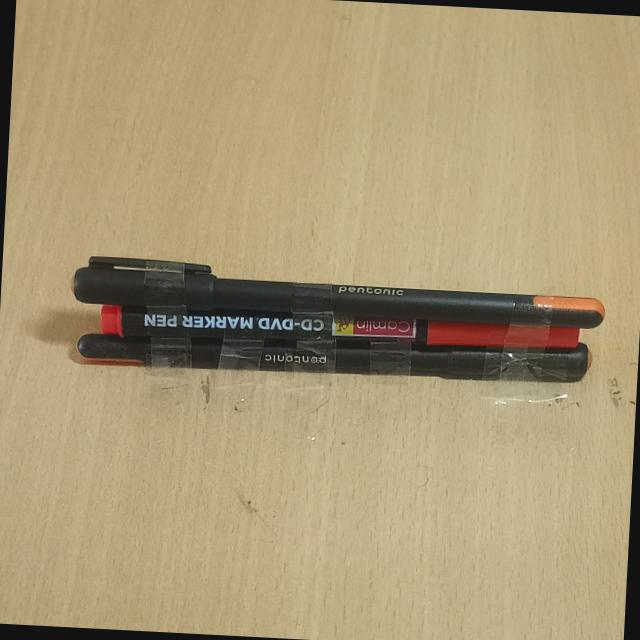marker: (78, 305, 592, 362)
pen: (60, 231, 624, 331), (60, 343, 612, 399)
